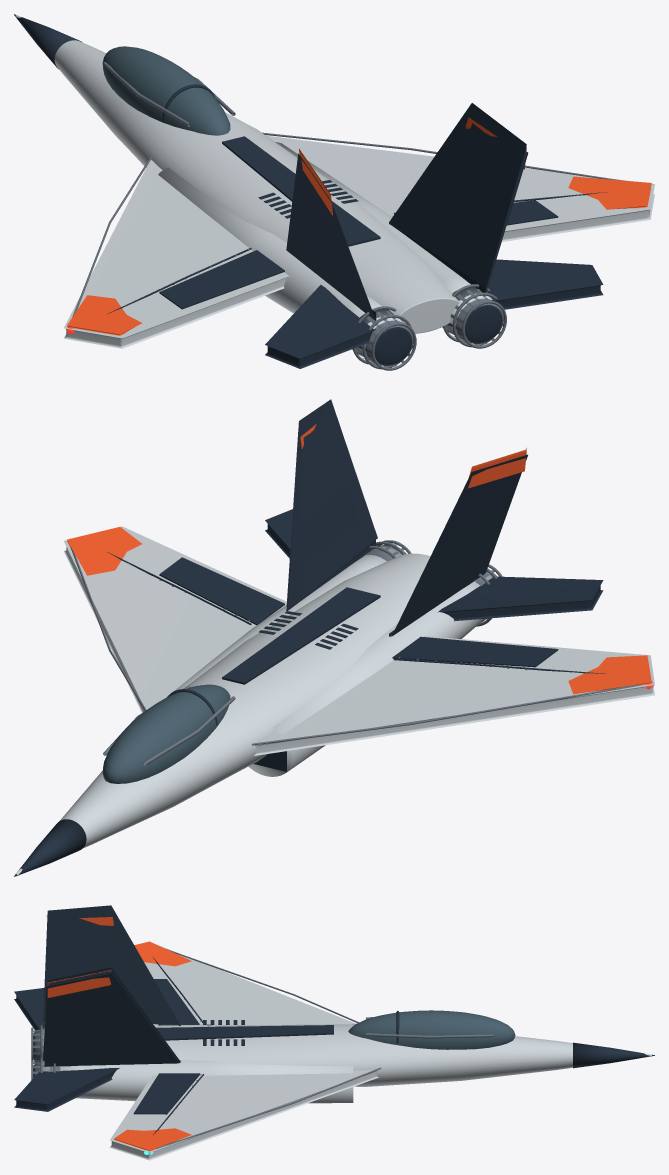
The model's file is fighter.glb.
3 views of the same model, one above another, from view 1: azimuth 30°, elevation 25°; view 2: azimuth 150°, elevation 25°; view 3: azimuth 270°, elevation 25° (orthographic). The views are drawn at different scales.
Parts seen in each view (by area): view 1: Arctic ceramic.001, Midnight graphite.001, Smoked gold canopy.001, Titanium exhaust.001, Rescue vermilion.001; view 2: Arctic ceramic.001, Midnight graphite.001, Smoked gold canopy.001, Rescue vermilion.001, Titanium exhaust.001; view 3: Arctic ceramic.001, Midnight graphite.001, Smoked gold canopy.001, Rescue vermilion.001, Titanium exhaust.001.
Boxes of the visible parts, <box> form: Arctic ceramic.001: <box>15,15,654,362</box>; Midnight graphite.001: <box>14,14,607,368</box>; Smoked gold canopy.001: <box>102,46,230,135</box>; Titanium exhaust.001: <box>72,62,622,370</box>; Rescue vermilion.001: <box>67,117,651,335</box>; Arctic ceramic.001: <box>16,526,654,876</box>; Midnight graphite.001: <box>14,399,606,876</box>; Smoked gold canopy.001: <box>102,684,230,783</box>; Rescue vermilion.001: <box>67,423,651,694</box>; Titanium exhaust.001: <box>70,540,640,765</box>; Arctic ceramic.001: <box>42,945,651,1160</box>; Midnight graphite.001: <box>14,905,654,1134</box>; Smoked gold canopy.001: <box>348,1010,515,1049</box>; Rescue vermilion.001: <box>47,917,191,1151</box>; Titanium exhaust.001: <box>31,949,493,1148</box>.
Size of the model in its own units: 15.71 by 5.18 by 20.14.
